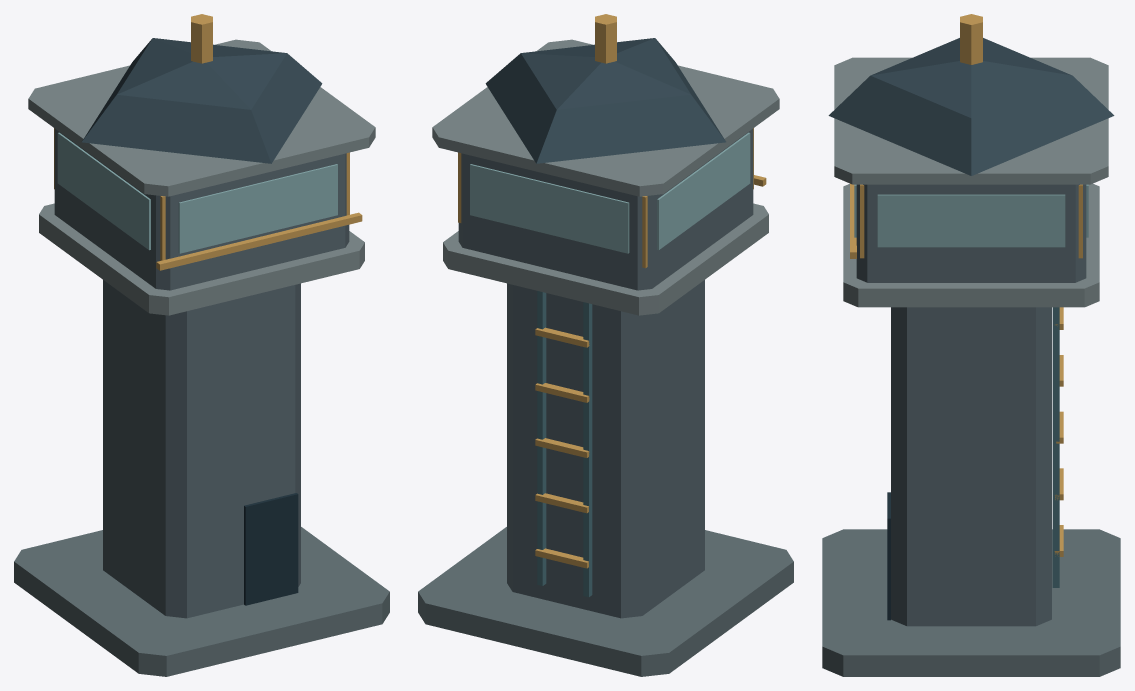
Rendered from submarine-watchtower.glb.
3 renders of one model, left to right at view 1: azimuth 30°, elevation 25°; view 2: azimuth 150°, elevation 25°; view 3: azimuth 270°, elevation 25°, orthographic. The views are drawn at different scales.
Parts seen in each view (by area): view 1: intact_structure; view 2: intact_structure; view 3: intact_structure.
Boxes of the visible parts, x1,y1,x2,y2 form: intact_structure: (14, 14, 389, 676); intact_structure: (418, 14, 793, 676); intact_structure: (822, 14, 1120, 676).
Size of the model in its own units: 5 by 11 by 5.
